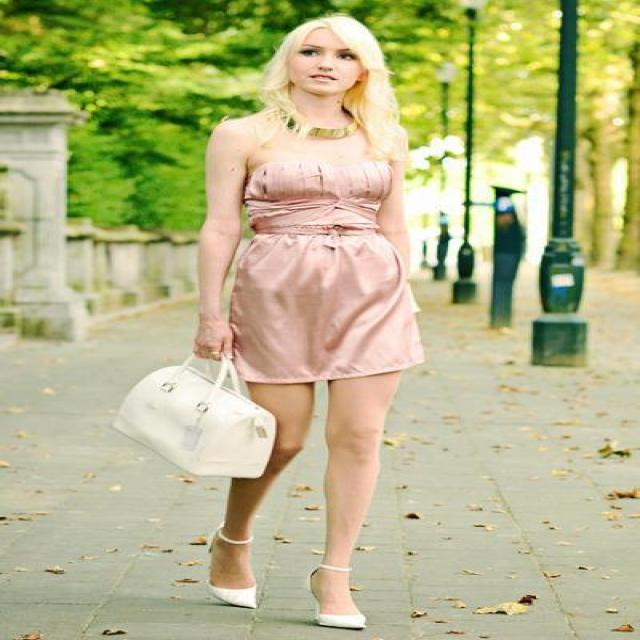bag: (114, 362, 274, 477)
dress: (218, 133, 422, 396)
shoe: (211, 584, 365, 630)
